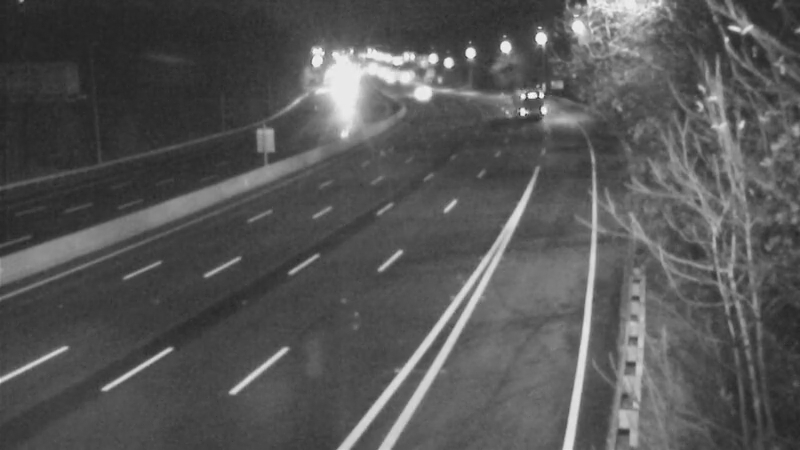vehicle: (381, 56, 431, 106), (395, 66, 445, 116), (497, 77, 547, 127), (320, 71, 370, 121)
